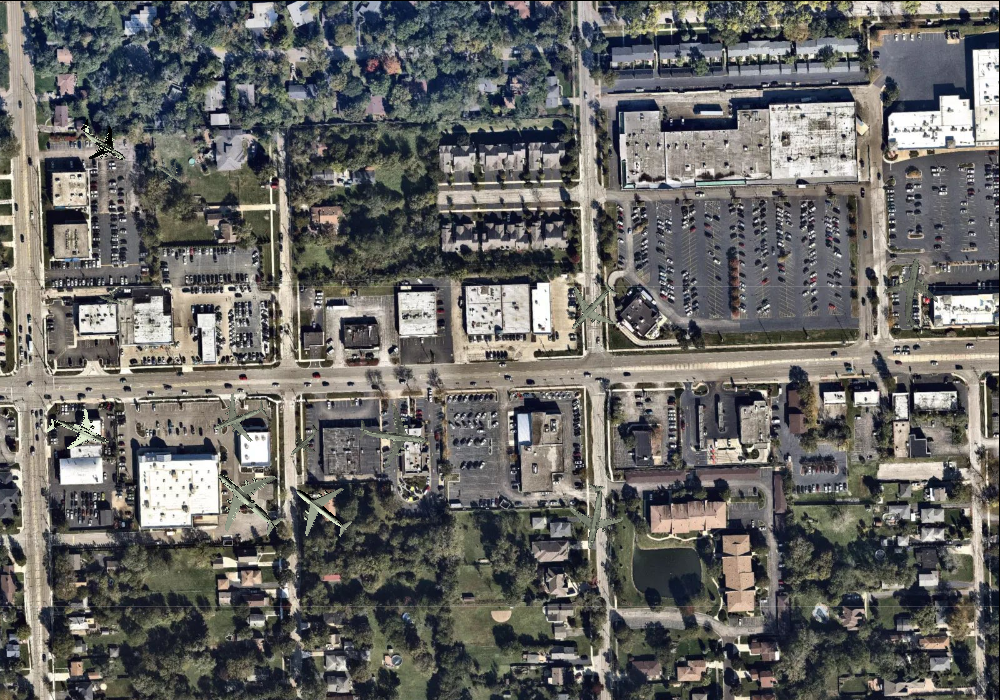plane: (193, 447, 301, 555), (277, 466, 365, 554), (552, 267, 632, 347), (875, 252, 952, 334), (38, 395, 117, 470), (556, 477, 631, 555), (354, 398, 431, 472), (66, 106, 139, 177), (203, 383, 275, 453), (278, 415, 329, 466), (146, 151, 190, 195), (94, 282, 131, 318)
